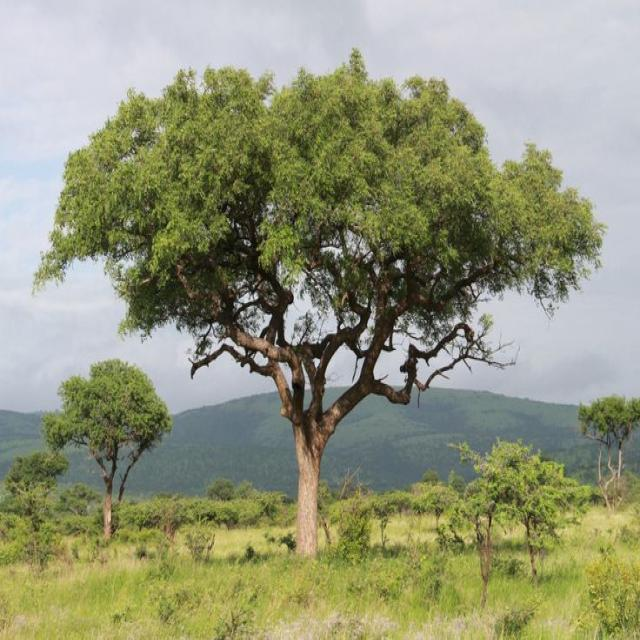Acacia: (69, 95, 578, 560), (36, 374, 176, 540)
